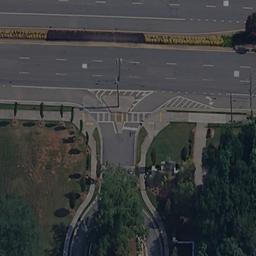Chevron: (87, 88, 149, 131), (151, 96, 210, 112)
Crosswalk: (89, 111, 148, 123)
Right Turn Arrow: (202, 96, 216, 105)
Solid White Line: (1, 11, 186, 21), (10, 84, 92, 92)
White Dashed Line: (18, 68, 249, 83), (17, 55, 251, 68), (53, 2, 253, 9), (153, 90, 225, 96), (186, 16, 245, 22)
